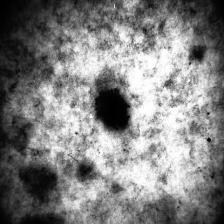Benign Marking or Mole: (94, 87, 130, 132)
